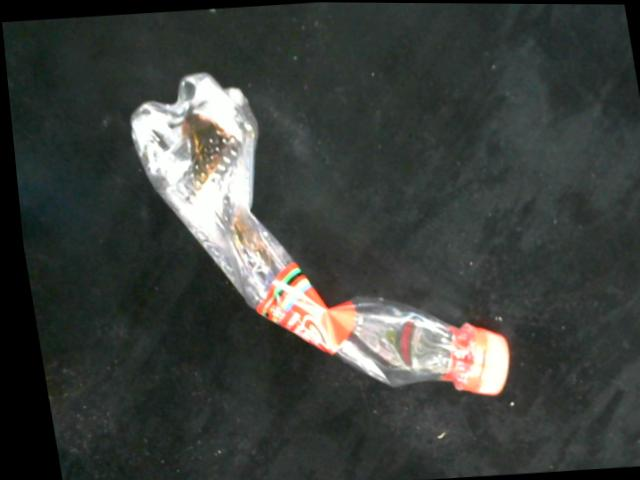bottle: (127, 67, 506, 398)
